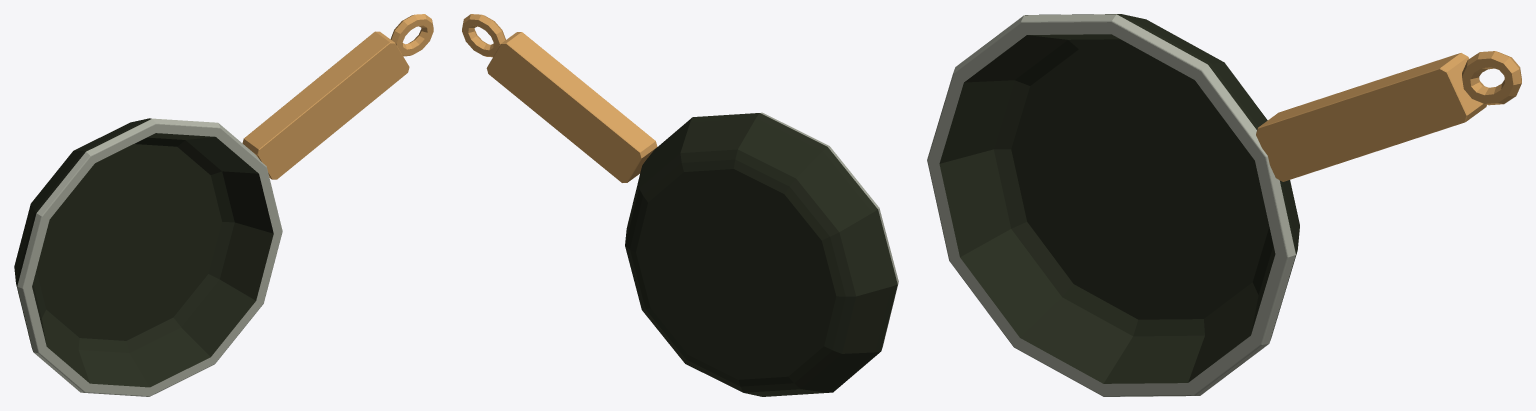
Rendered from frying_pan.glb.
3 renders of one model, left to right at view 1: azimuth 30°, elevation 25°; view 2: azimuth 150°, elevation 25°; view 3: azimuth 330°, elevation 25°, orthographic. The views are drawn at different scales.
Visible parts, largest first — view 1: frying_pan; view 2: frying_pan; view 3: frying_pan.
Part boxes in pixels (x1=…): frying_pan: x1=14, y1=14, x2=433, y2=396; frying_pan: x1=462, y1=14, x2=898, y2=396; frying_pan: x1=927, y1=14, x2=1521, y2=396.
Bounding box in the file's own units: 0.279 × 0.197 × 0.034.
